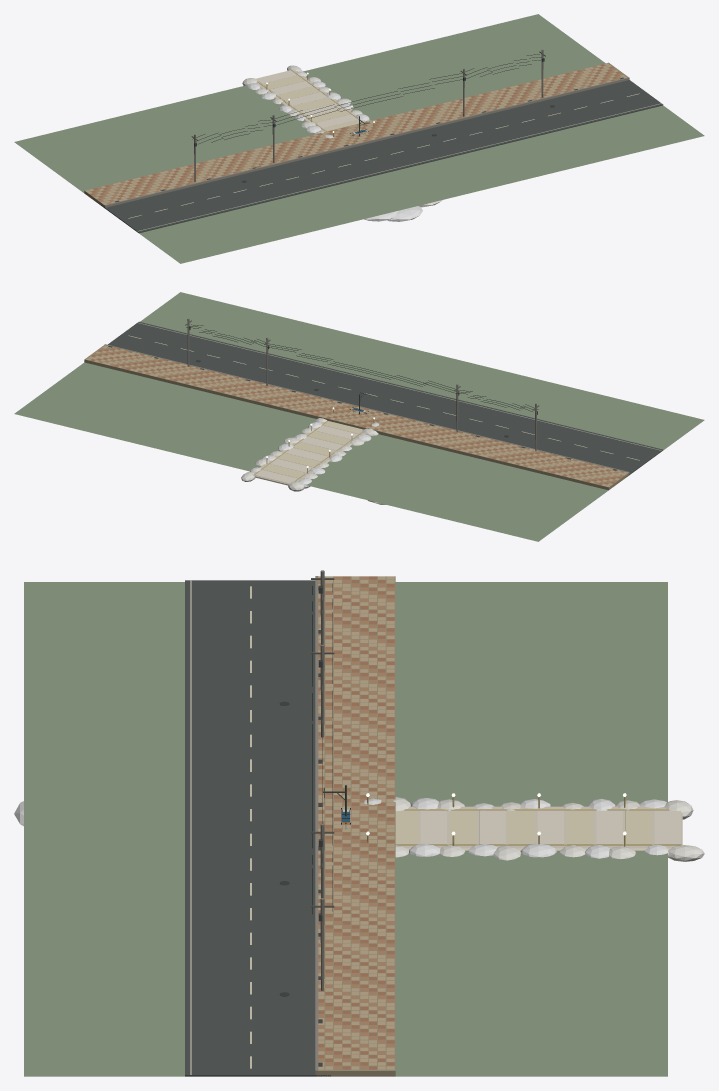
The model's file is street.glb.
3 views of the same model, one above another, from view 1: azimuth 30°, elevation 25°; view 2: azimuth 150°, elevation 25°; view 3: azimuth 270°, elevation 25° (orthographic). The views are drawn at different scales.
Visible parts, largest first — view 1: intro_road, heaven_path; view 2: intro_road, heaven_path; view 3: intro_road, heaven_path.
Part boxes in pixels (x1=…): intro_road: x1=14, y1=14, x2=704, y2=263; heaven_path: x1=242, y1=65, x2=442, y2=221; intro_road: x1=14, y1=292, x2=704, y2=541; heaven_path: x1=241, y1=407, x2=385, y2=504; intro_road: x1=24, y1=570, x2=667, y2=1076; heaven_path: x1=14, y1=793, x2=704, y2=861.
Bounding box in the file's own units: 80 × 9.93 × 47.23.
